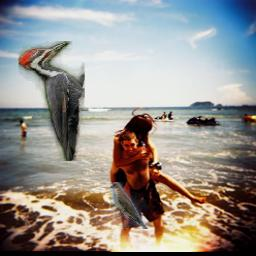Cuckoo: (110, 183, 150, 230)
Woodpecker: (19, 41, 85, 161)
